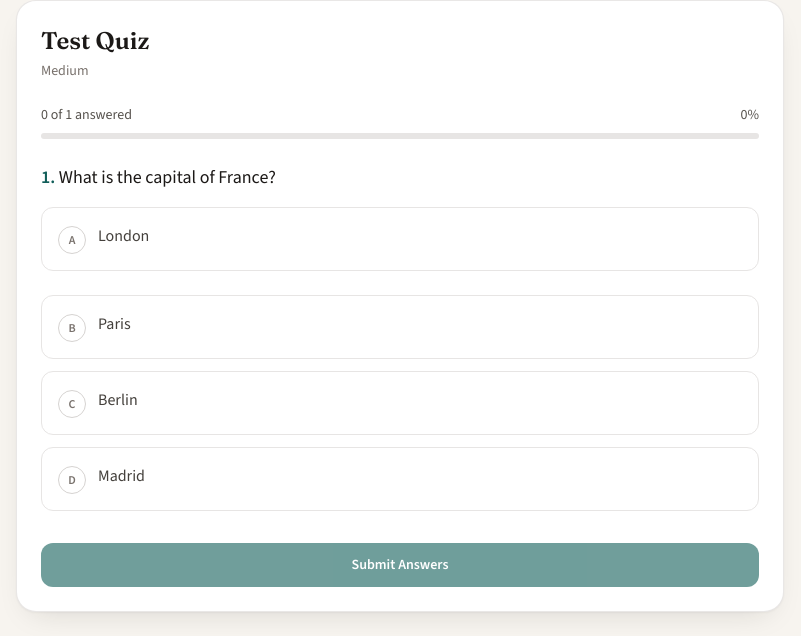
Test case: QuizPage › enables submit button when all questions are answered
Expected: the button "Submit Answers" is disabled, [41, 543, 759, 587]
Click the text "Paris" at coordinates (114, 324), box [98, 313, 131, 334]
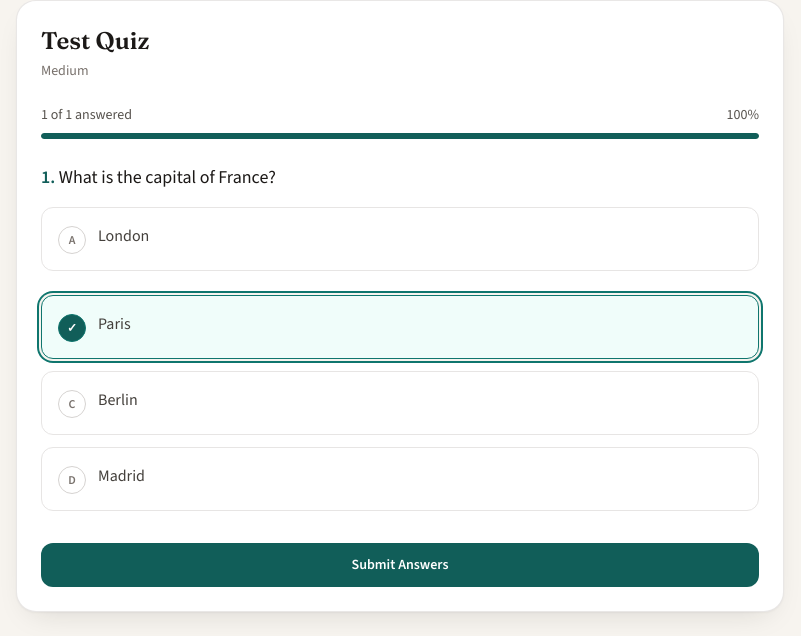
Now the button "Submit Answers" is enabled, box [41, 543, 759, 587]
